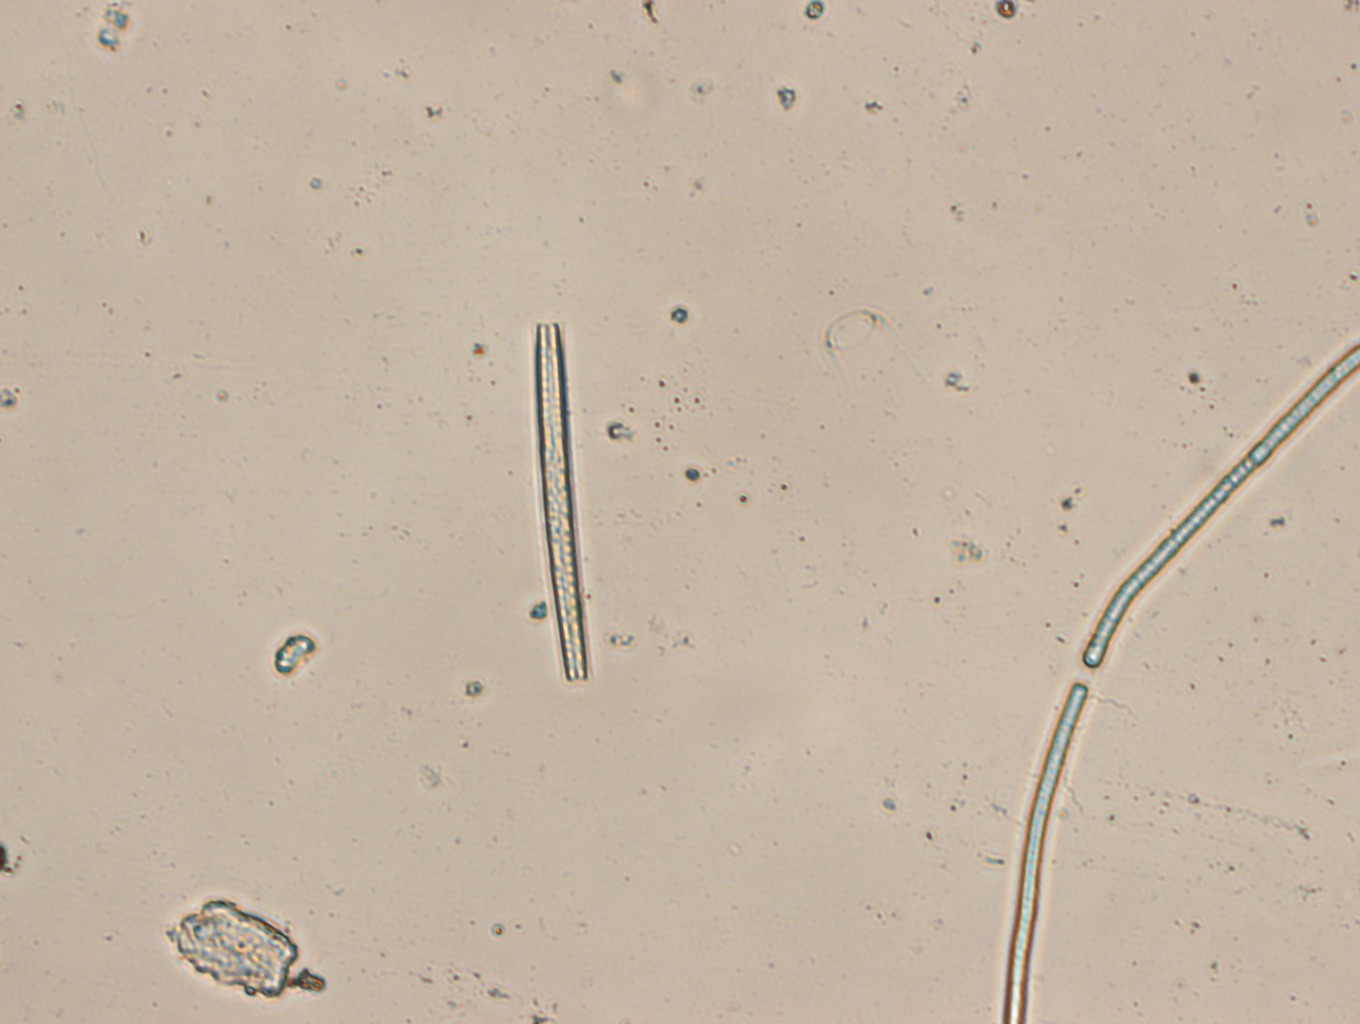thalassionema nitzschioides: (532, 322, 590, 681)
